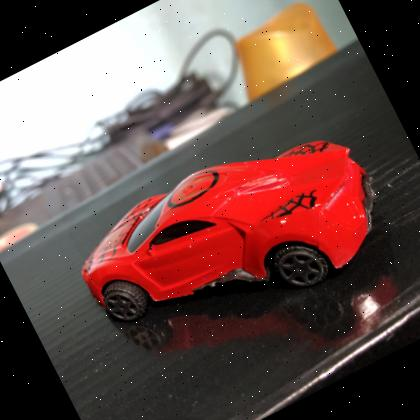Car: (55, 92, 411, 384)
